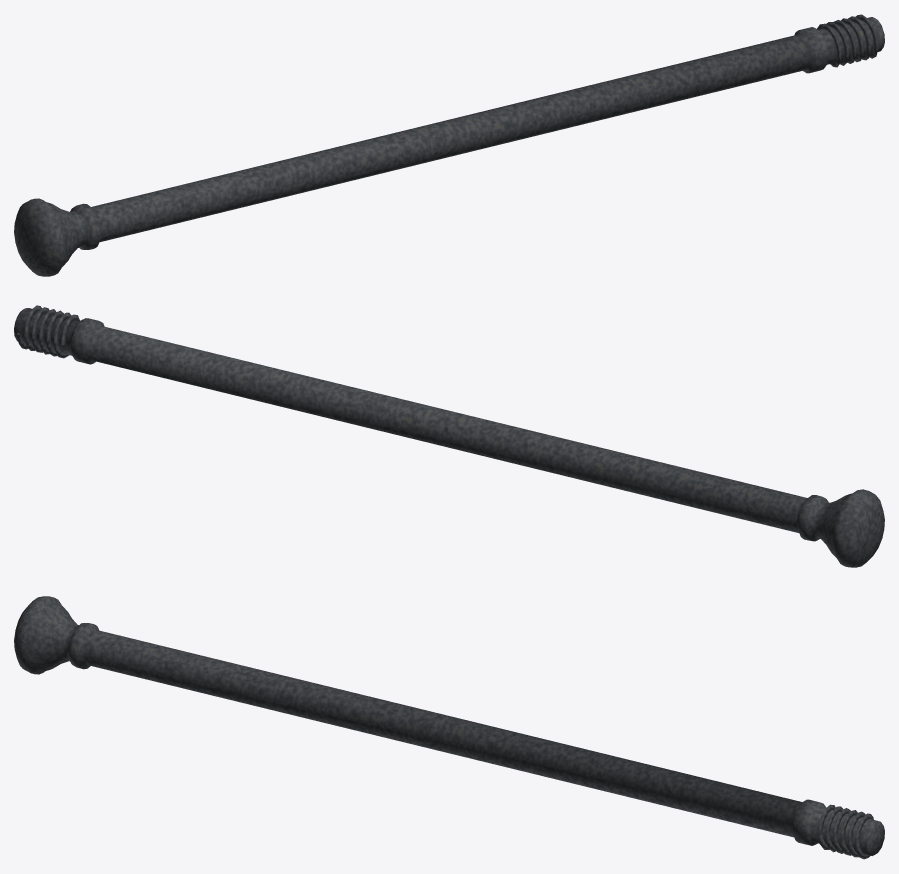
Rendered from metal-rod_low.fbx.
The picture shows the model from 3 angles, top to bottom: view 1: azimuth 30°, elevation 25°; view 2: azimuth 150°, elevation 25°; view 3: azimuth 330°, elevation 25°; orthographic projection.
Parts seen in each view (by area): view 1: metal-rod; view 2: metal-rod; view 3: metal-rod.
Boxes of the visible parts, x1,y1,x2,y2 form: metal-rod: (14,14,884,276); metal-rod: (14,305,884,567); metal-rod: (14,596,884,859).
Bounding box in the file's own units: 120 × 9.61 × 9.59.
1 material, 1 textured.
